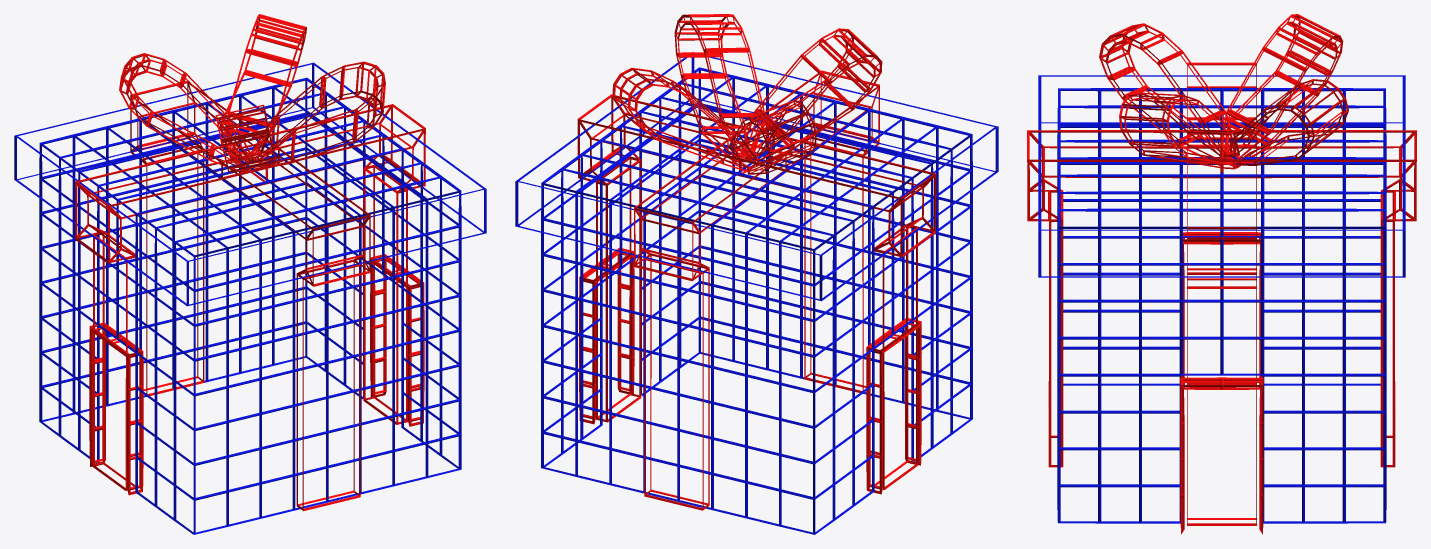
Rendered from RegaloWire.fbx.
The picture shows the model from 3 angles, left to right: view 1: azimuth 30°, elevation 25°; view 2: azimuth 150°, elevation 25°; view 3: azimuth 270°, elevation 25°; orthographic projection. The views are drawn at different scales.
Parts seen in each view (by area): view 1: Cube.016, Cube.007, Cube.017, Cube.024, Cube.010, Cube.012, Cube.013, Cube.009, Cube.008; view 2: Cube.016, Cube.007, Cube.017, Cube.024, Cube.010, Cube.012, Cube.008, Cube.013, Cube.009; view 3: Cube.016, Cube.017, Cube.009, Cube.010, Cube.008, Cube.024, Cube.007, Cube.012, Cube.013.
Part boxes in pixels (x1,y1,x2,y2): Cube.016: (39, 77, 461, 534); Cube.007: (75, 104, 425, 490); Cube.017: (130, 81, 370, 511); Cube.024: (89, 254, 424, 495); Cube.010: (14, 62, 486, 306); Cube.012: (250, 61, 385, 166); Cube.013: (219, 14, 306, 163); Cube.009: (119, 53, 252, 172); Cube.008: (215, 104, 282, 172); Cube.016: (541, 67, 972, 534); Cube.007: (577, 94, 936, 489); Cube.017: (634, 70, 879, 510); Cube.024: (579, 247, 921, 494); Cube.010: (515, 52, 998, 301); Cube.012: (674, 14, 764, 162); Cube.008: (741, 28, 882, 165); Cube.013: (612, 67, 757, 172); Cube.009: (728, 99, 816, 174); Cube.016: (1057, 88, 1386, 523); Cube.017: (1027, 130, 1416, 467); Cube.009: (1220, 14, 1343, 168); Cube.010: (1038, 75, 1405, 277); Cube.008: (1099, 23, 1233, 165); Cube.024: (1180, 232, 1263, 534); Cube.007: (1187, 62, 1256, 525); Cube.012: (1119, 92, 1239, 169); Cube.013: (1229, 79, 1348, 165).
Bounding box in the file's own units: 239 × 274 × 239.
